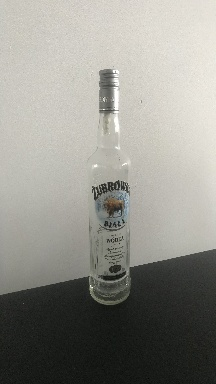butelka: (85, 65, 132, 308)
